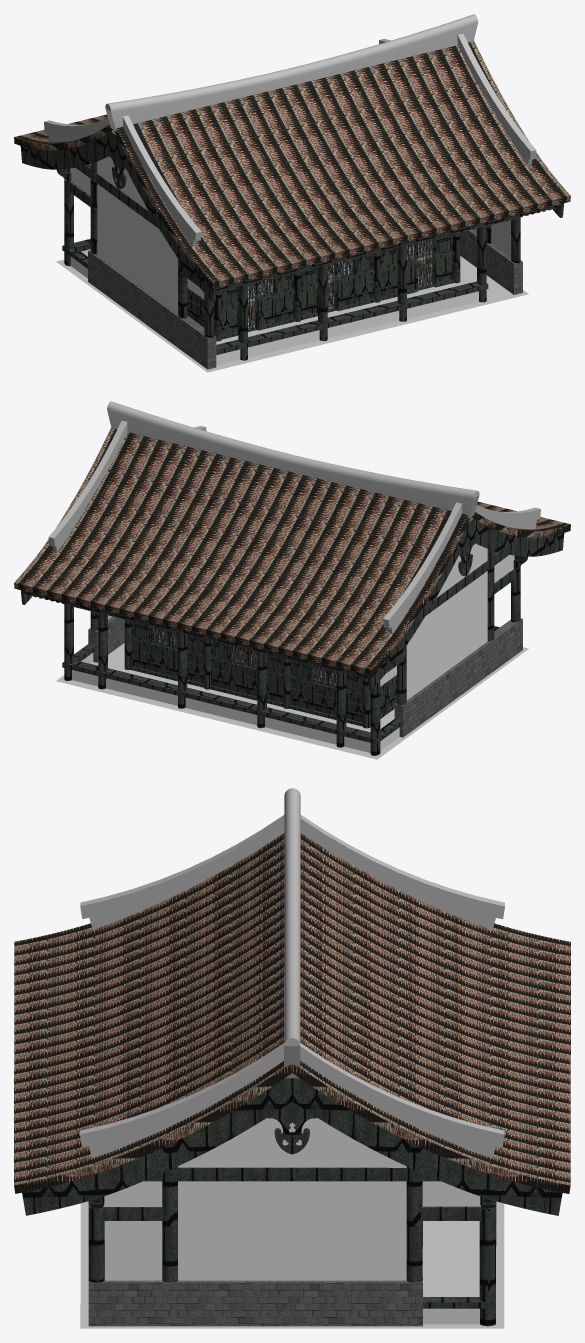
The model's file is near.gltf.
The picture shows the model from 3 angles, top to bottom: view 1: azimuth 30°, elevation 25°; view 2: azimuth 150°, elevation 25°; view 3: azimuth 270°, elevation 25°; orthographic projection. The views are drawn at different scales.
Bounding box in the file's own units: 12.35 × 7.03 × 11.62.
